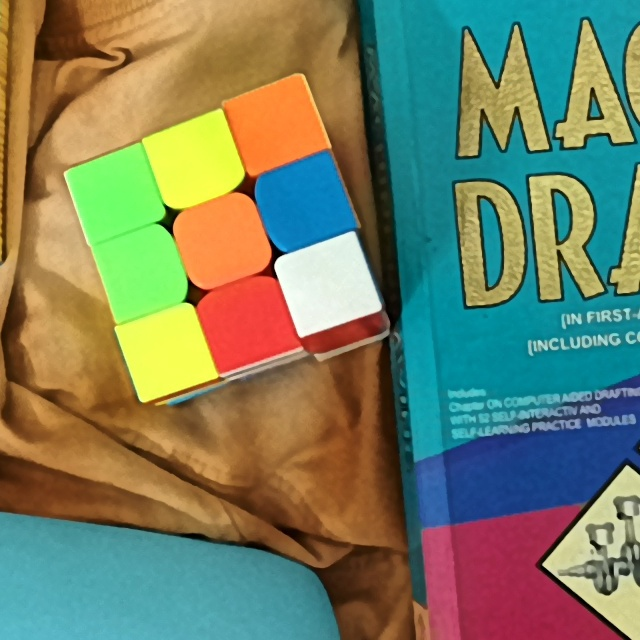tile: (188, 212, 258, 271), (292, 255, 362, 312), (248, 91, 313, 152), (275, 170, 337, 232), (216, 291, 278, 353), (84, 165, 146, 224), (110, 245, 172, 302), (138, 319, 195, 380), (167, 132, 228, 187)
